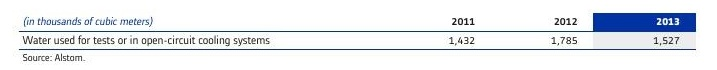table: (0, 0, 717, 70)
